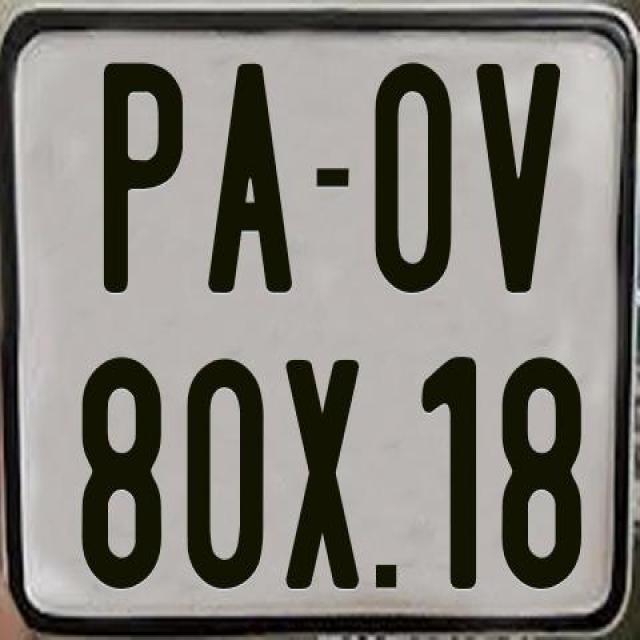0: (374, 61, 458, 300), (185, 358, 271, 589)
1: (421, 356, 483, 598)
8: (81, 352, 167, 587), (498, 355, 578, 592)
A: (206, 61, 294, 300)
P: (102, 58, 182, 290)
V: (474, 62, 560, 292)
X: (284, 357, 358, 596)
